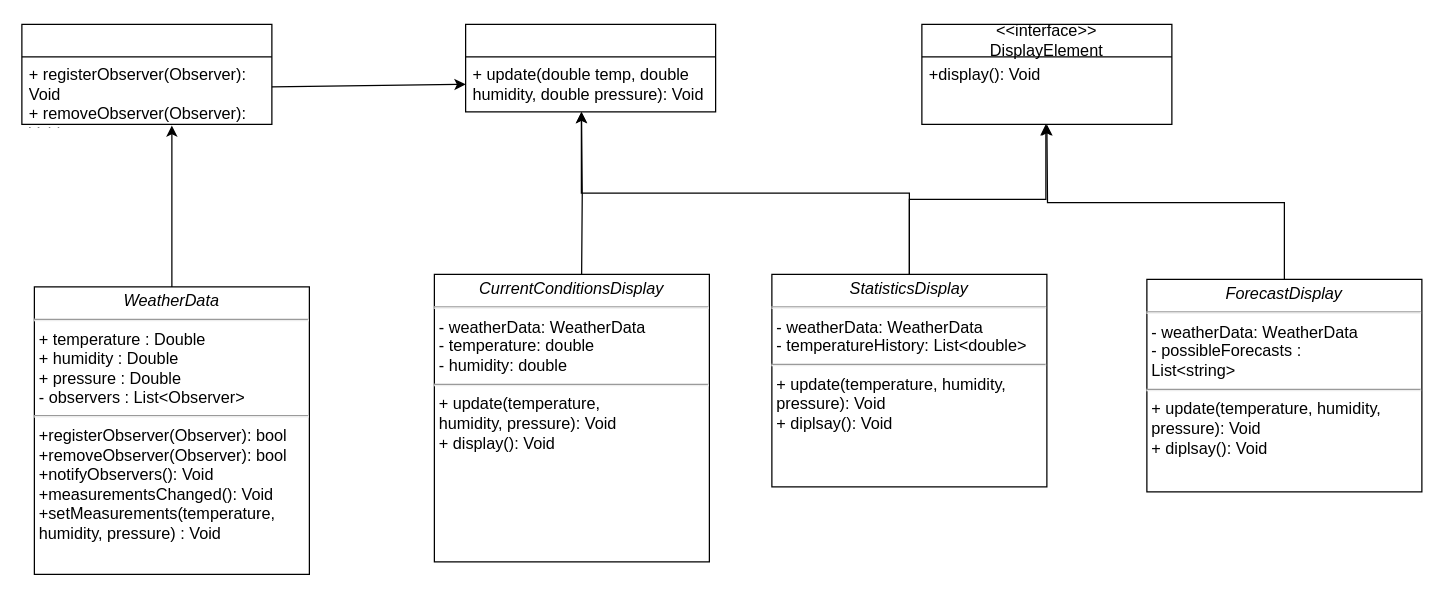
Image size: 1444x596. Some labels were removed from this diagram. The box of each missing label's shape, as (x1, y1, x2, y2) in pixels:
<<interface>> Observer: (464, 23, 716, 112)
<<interface>> Subject: (21, 23, 272, 124)
